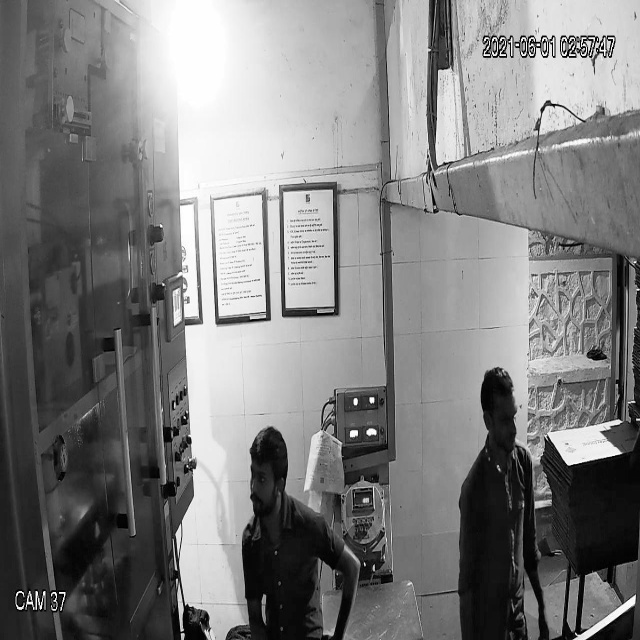Sin_gafas: (243, 464, 289, 493)
